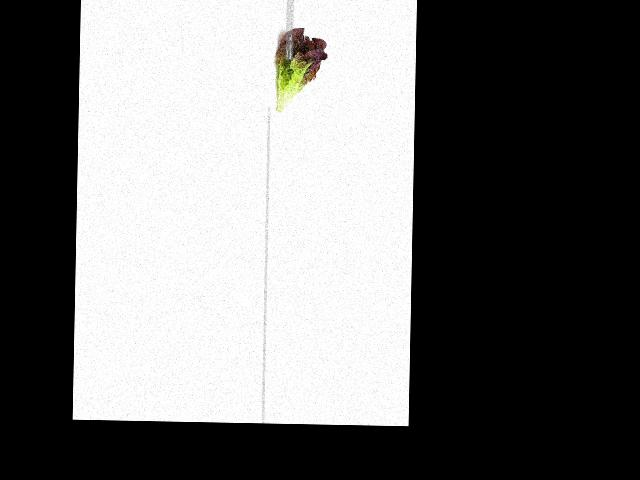lettuce: (270, 25, 328, 116)
